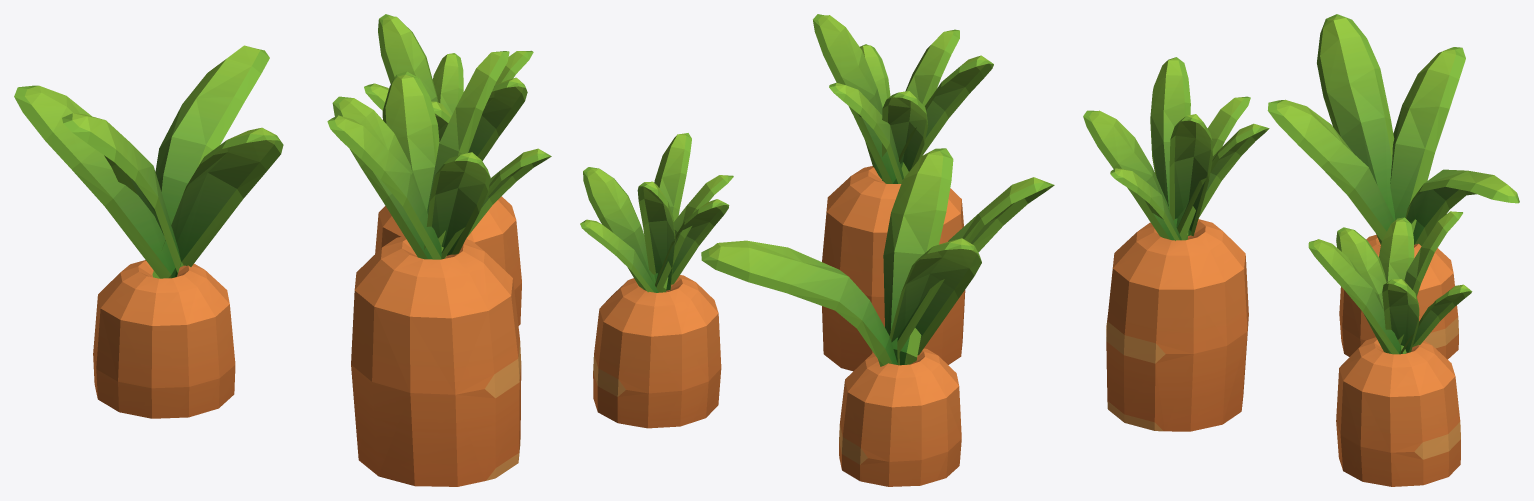
Rendered from crop_carrot_stage3.glb.
The picture shows the model from 3 angles, left to right: view 1: azimuth 30°, elevation 25°; view 2: azimuth 150°, elevation 25°; view 3: azimuth 270°, elevation 25°; orthographic projection. The views are drawn at different scales.
Parts seen in each view (by area): view 1: crop_carrot_stage3; view 2: crop_carrot_stage3; view 3: crop_carrot_stage3.
Boxes of the visible parts, x1=… form: crop_carrot_stage3: x1=14, y1=14, x2=551, y2=486; crop_carrot_stage3: x1=580, y1=14, x2=1054, y2=486; crop_carrot_stage3: x1=1083, y1=14, x2=1519, y2=486.
Size of the model in its own units: 0.4653 by 0.33 by 0.4144.
1 material, 1 textured.
